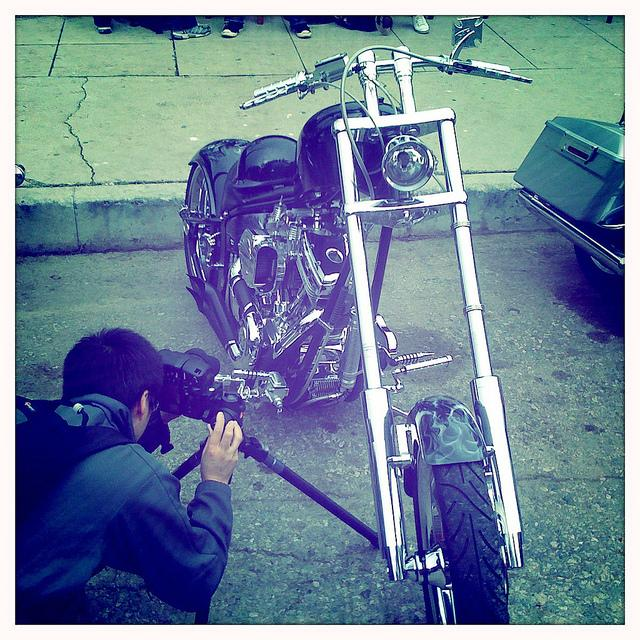motor: (181, 52, 528, 580), (513, 118, 626, 292)
